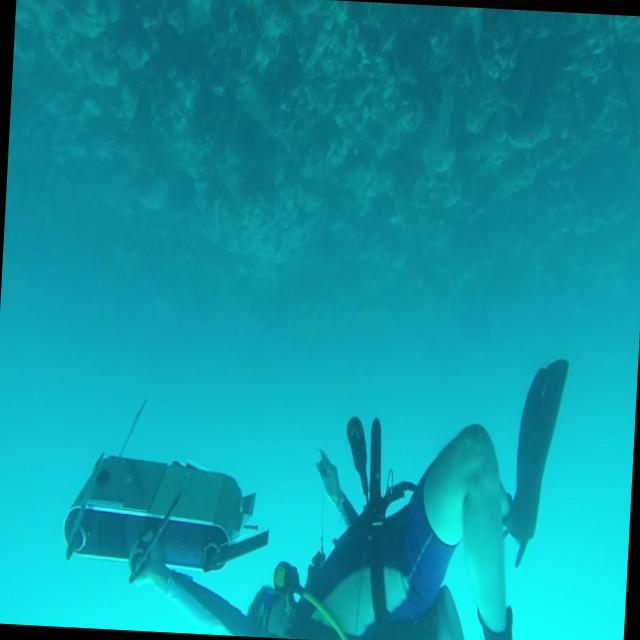human: (125, 337, 570, 640)
